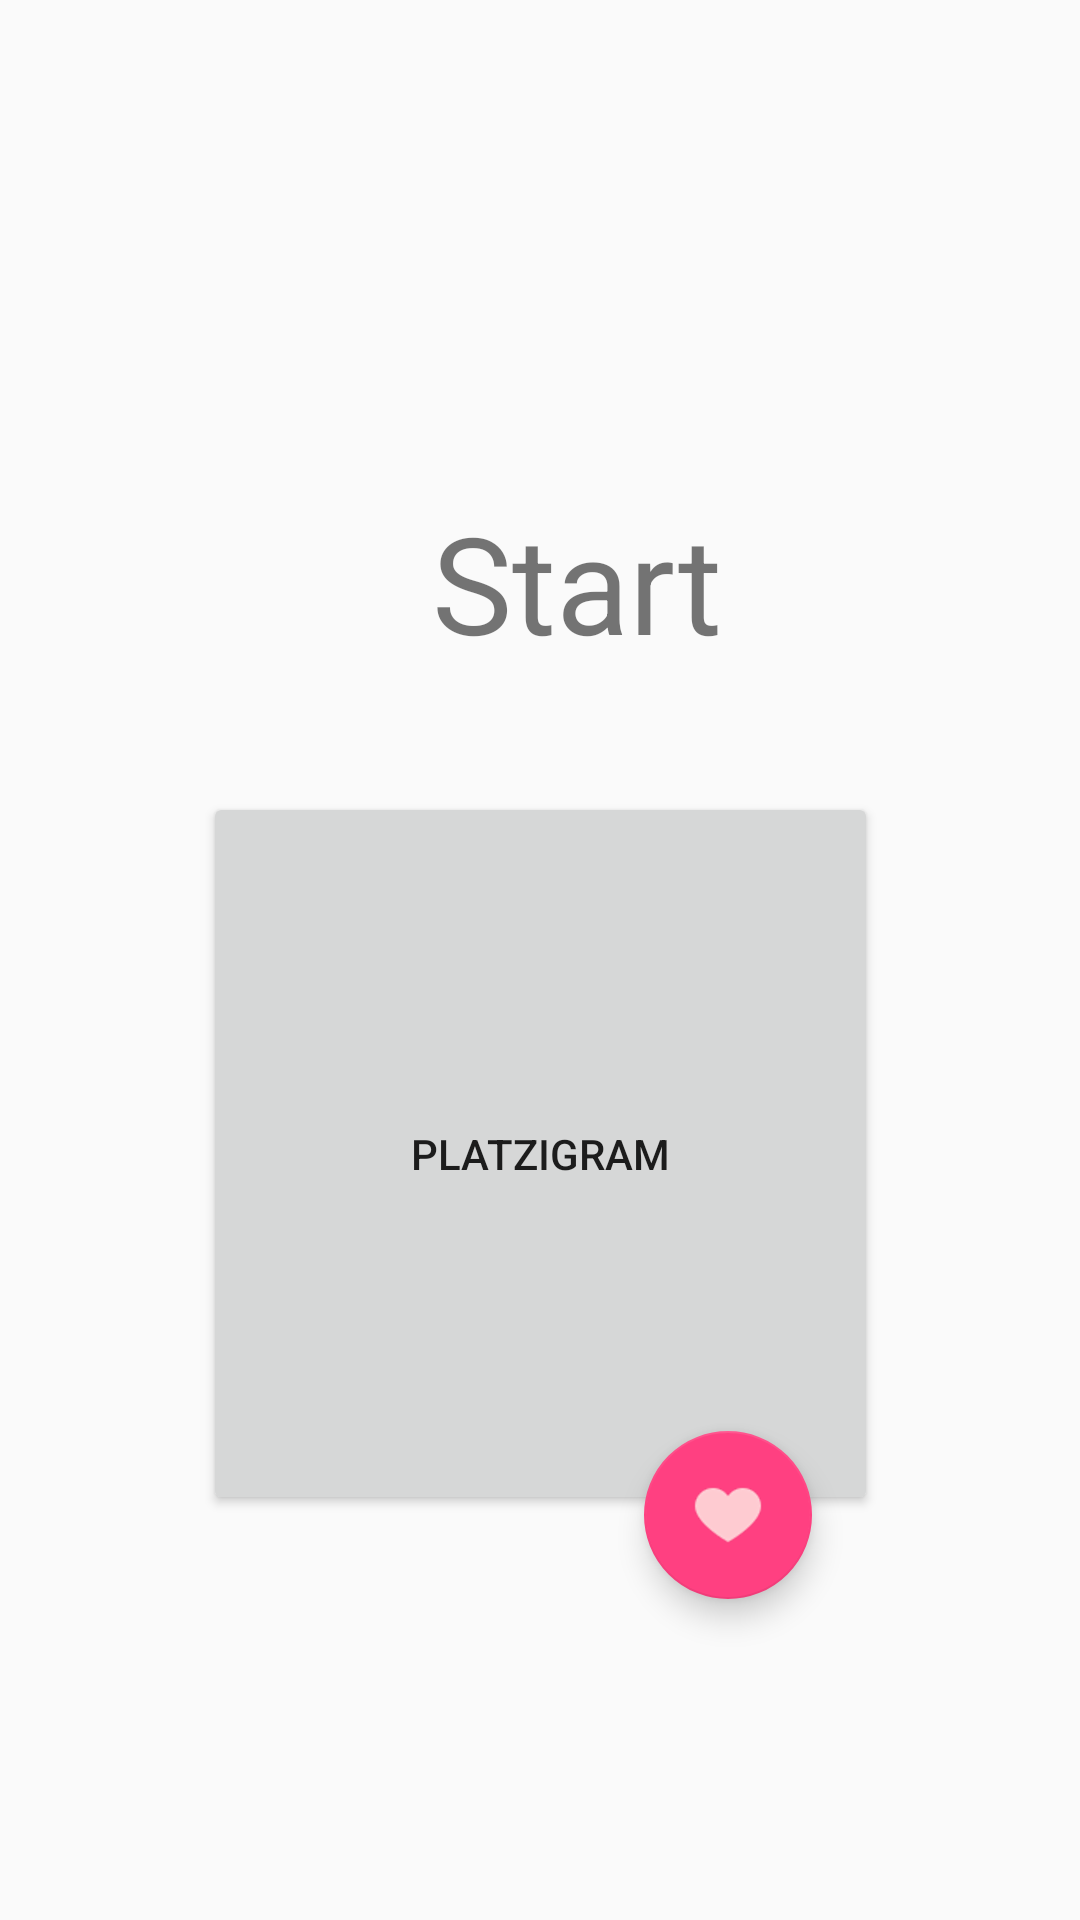

Point at icon controls on the screen. Image size 1080 x 1920, points as [x,y].
corazon: [728,1515]
